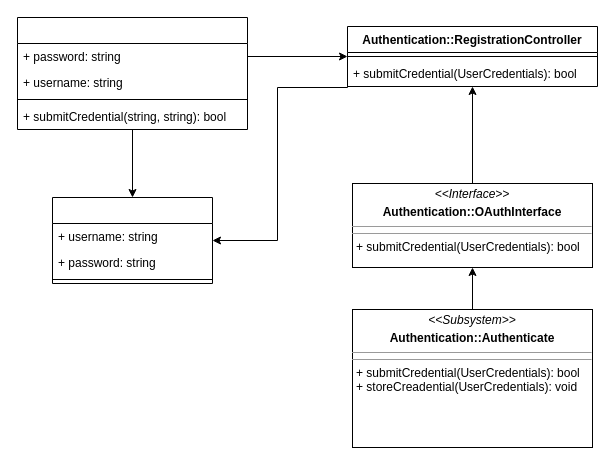
Image size: 615x465. Some labels were removed from this diagram. The box of each missing label's shape, as (x1, y1, x2, y2) in pixels:
User::UserCredentials: (52, 196, 212, 284)
WebUI::RegistrationForm: (16, 16, 248, 130)
